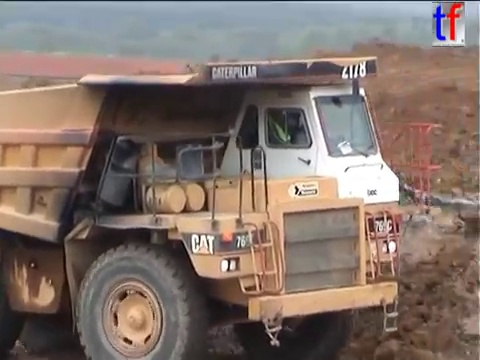truck: (1, 51, 447, 360)
